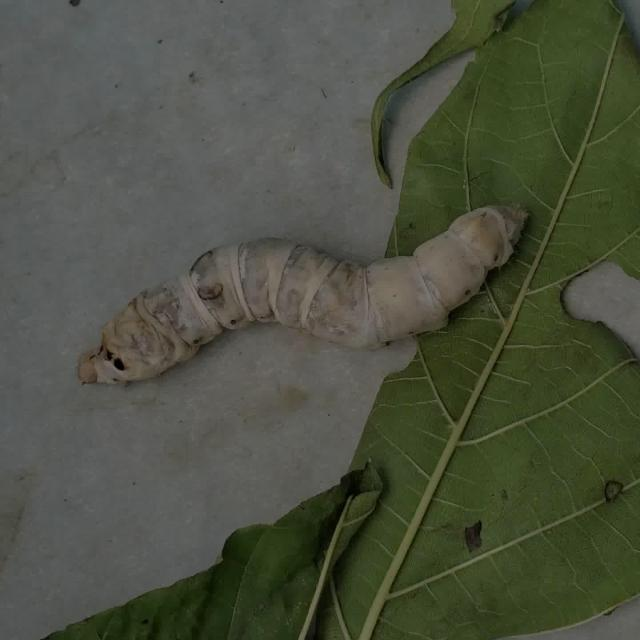Grasserie: (71, 171, 541, 420)
